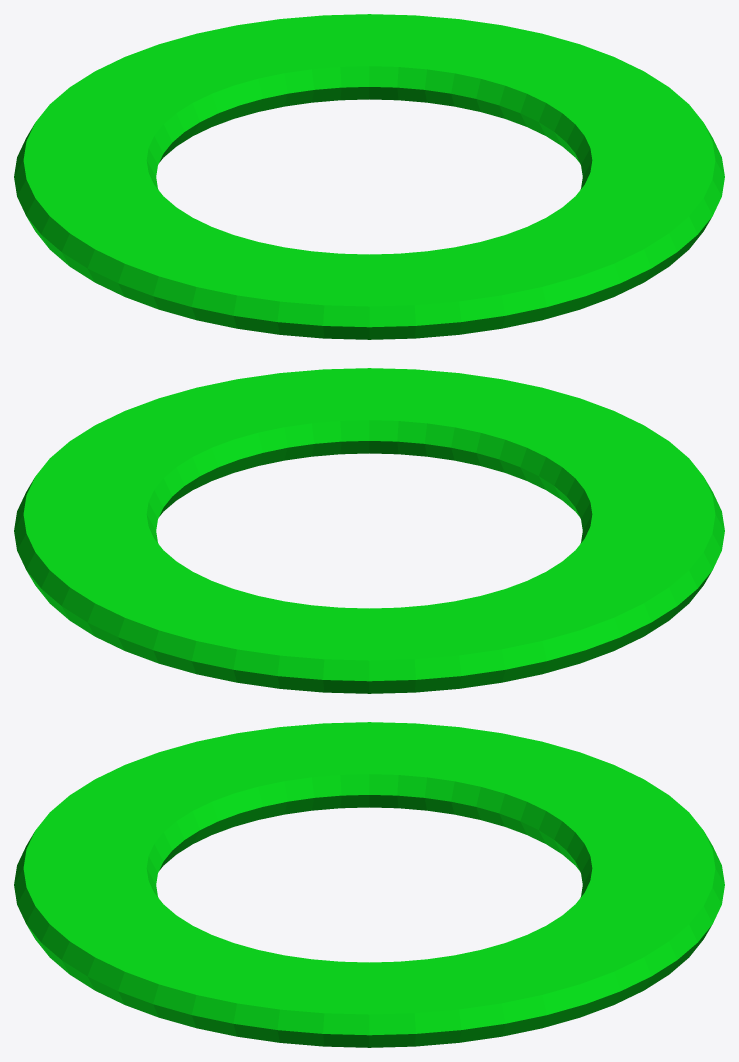
Rendered from Put_Ok.fbx.
The picture shows the model from 3 angles, top to bottom: view 1: azimuth 30°, elevation 25°; view 2: azimuth 150°, elevation 25°; view 3: azimuth 270°, elevation 25°; orthographic projection.
Parts seen in each view (by area): view 1: トーラス; view 2: トーラス; view 3: トーラス.
Boxes of the visible parts, left/top/right/bottom form: トーラス: left=14, top=14, right=724, bottom=339; トーラス: left=14, top=368, right=724, bottom=693; トーラス: left=14, top=722, right=724, bottom=1047.
Bounding box in the file's own units: 83.72 × 4.33 × 83.72.
